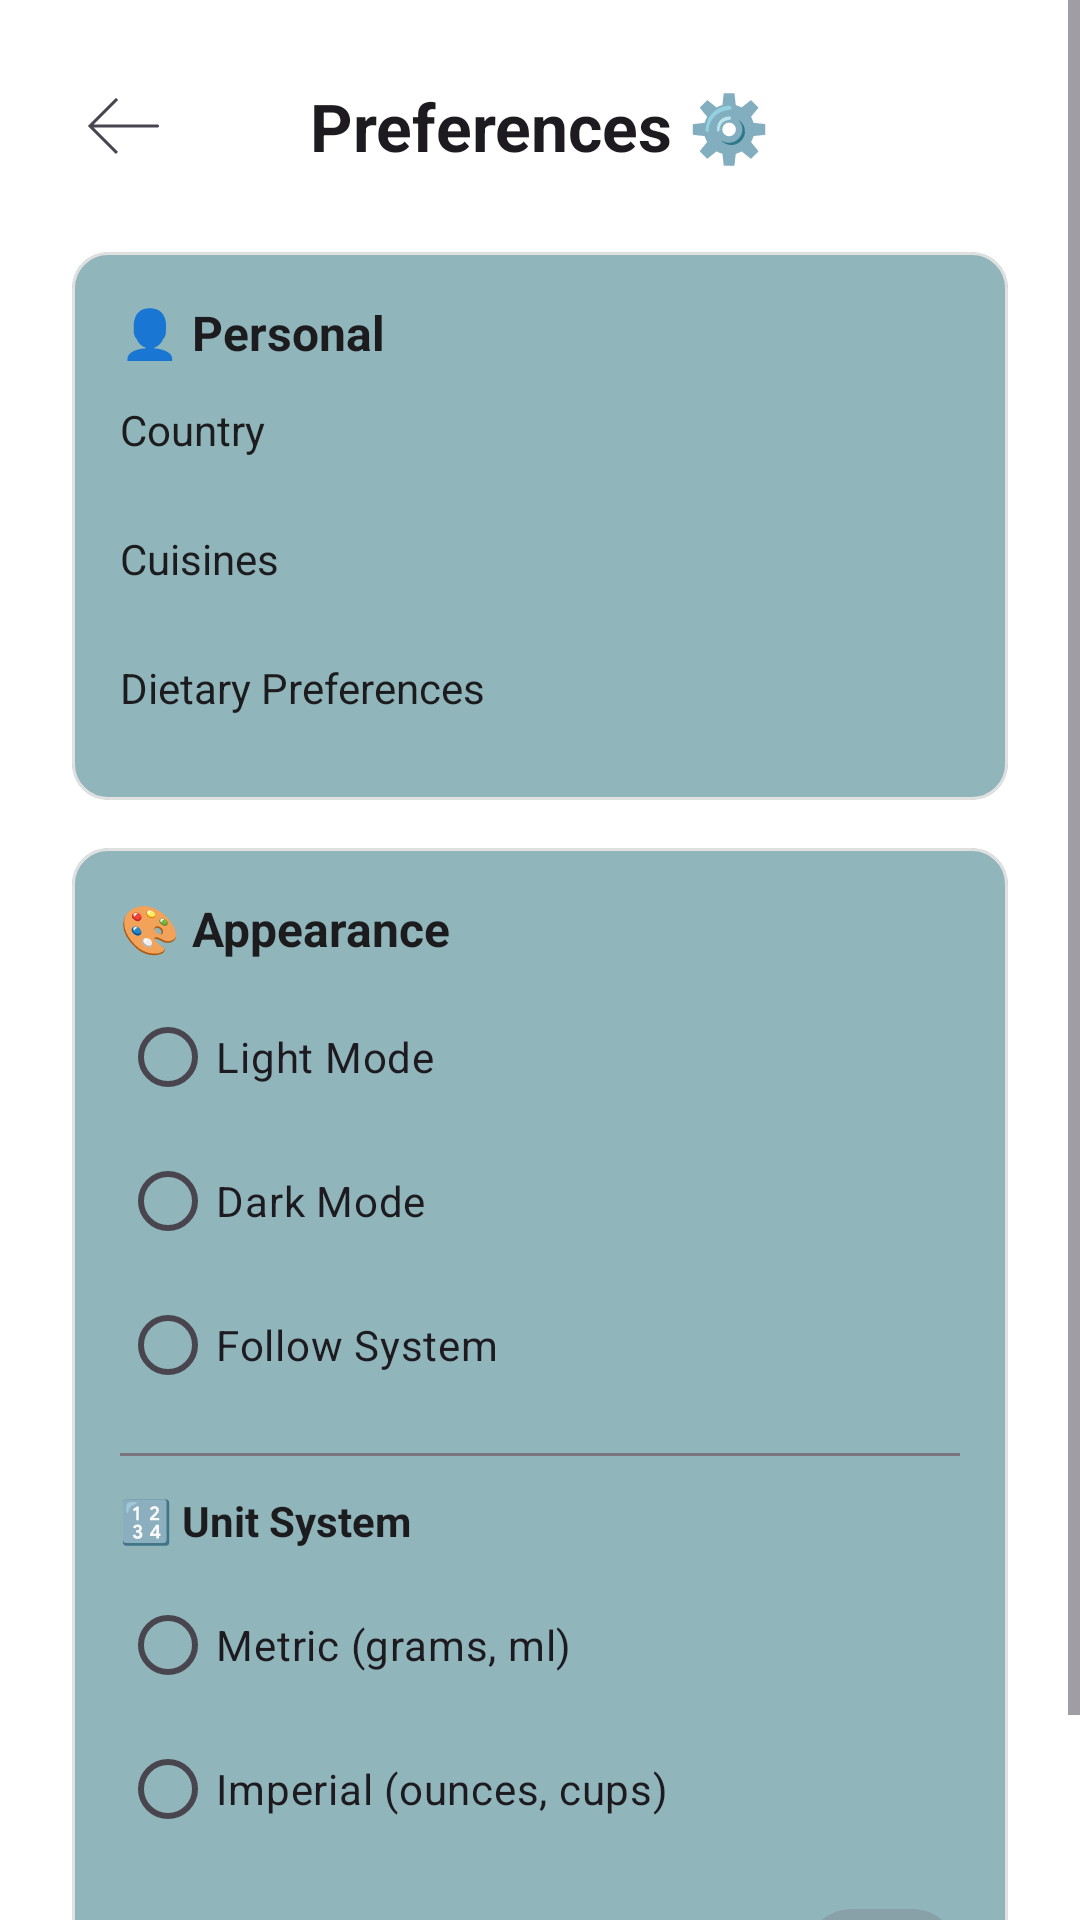

Icon bounding boxes for this 1080 × 1920 phone screenshot, format box(x1, y1, x2, y2):
arrow back: box(88, 98, 159, 154)
